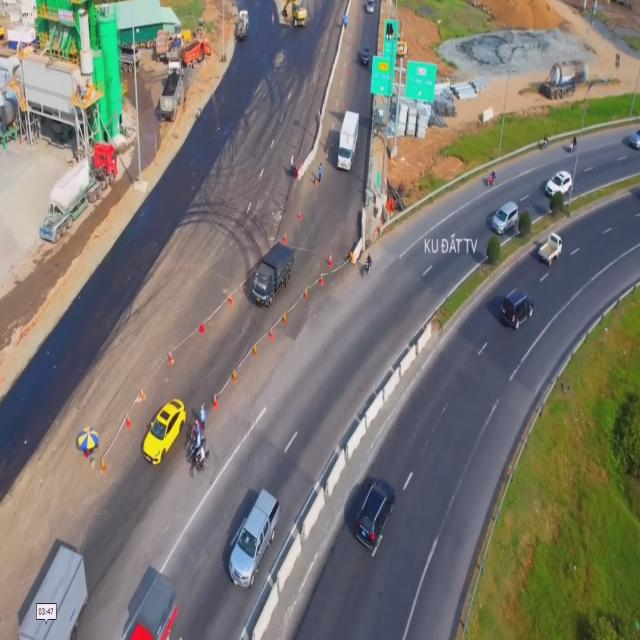car: (226, 488, 280, 588), (352, 476, 396, 554), (140, 400, 187, 470), (500, 285, 536, 337), (492, 197, 520, 233), (545, 169, 570, 199)
motorbike: (188, 442, 210, 479)
truck: (15, 541, 90, 640), (126, 575, 178, 640), (250, 237, 292, 308), (337, 109, 359, 169), (538, 231, 563, 271)
